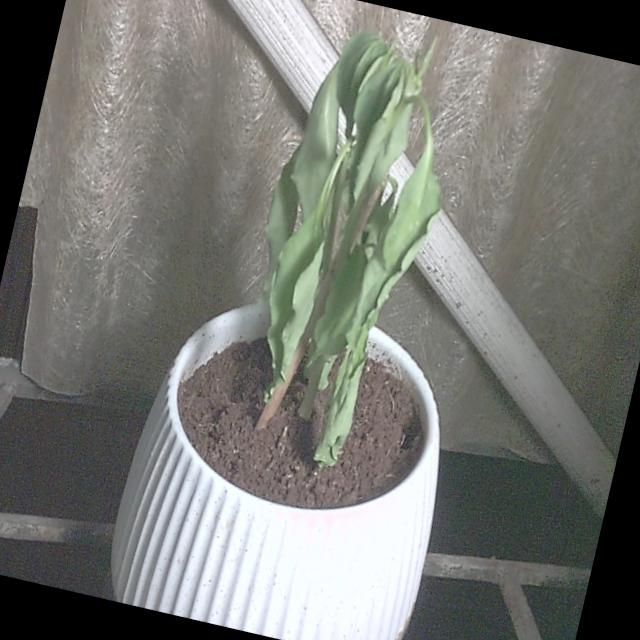Leaf: (315, 120, 440, 465), (267, 143, 349, 397), (265, 66, 338, 295), (292, 63, 339, 218), (337, 31, 388, 136)
